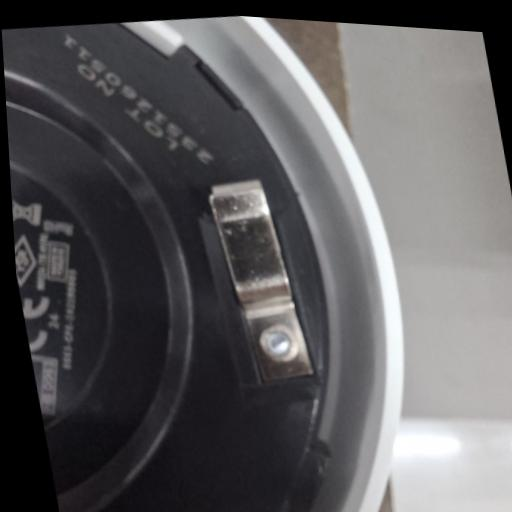yayli: (199, 162, 326, 398)
